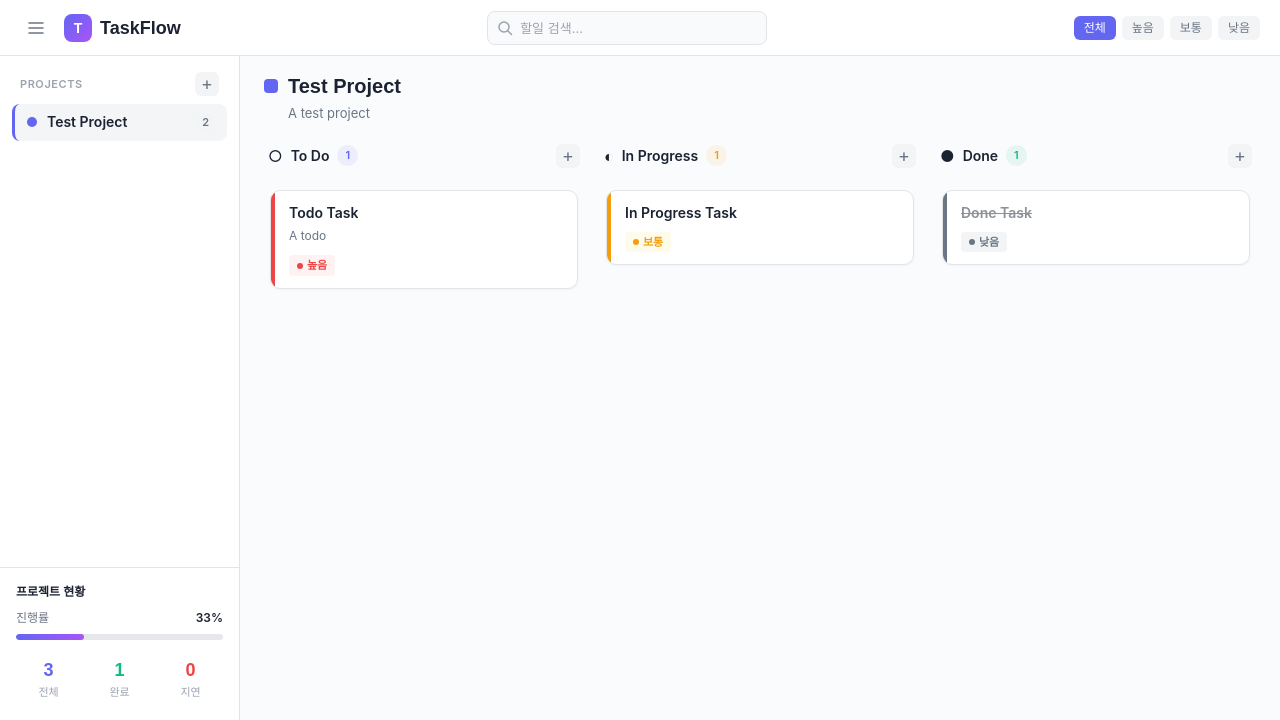
Test case: Home Page › Priority Filtering › should filter tasks by HIGH priority
The image size is (1280, 720).
Expected: the heading "Todo Task" is shown, [289,204,358,220]
Note: Use getByRole to target the filter button, not the task badge
Click the button "높음". click: x=1143, y=28
box: [1122,16,1164,40]
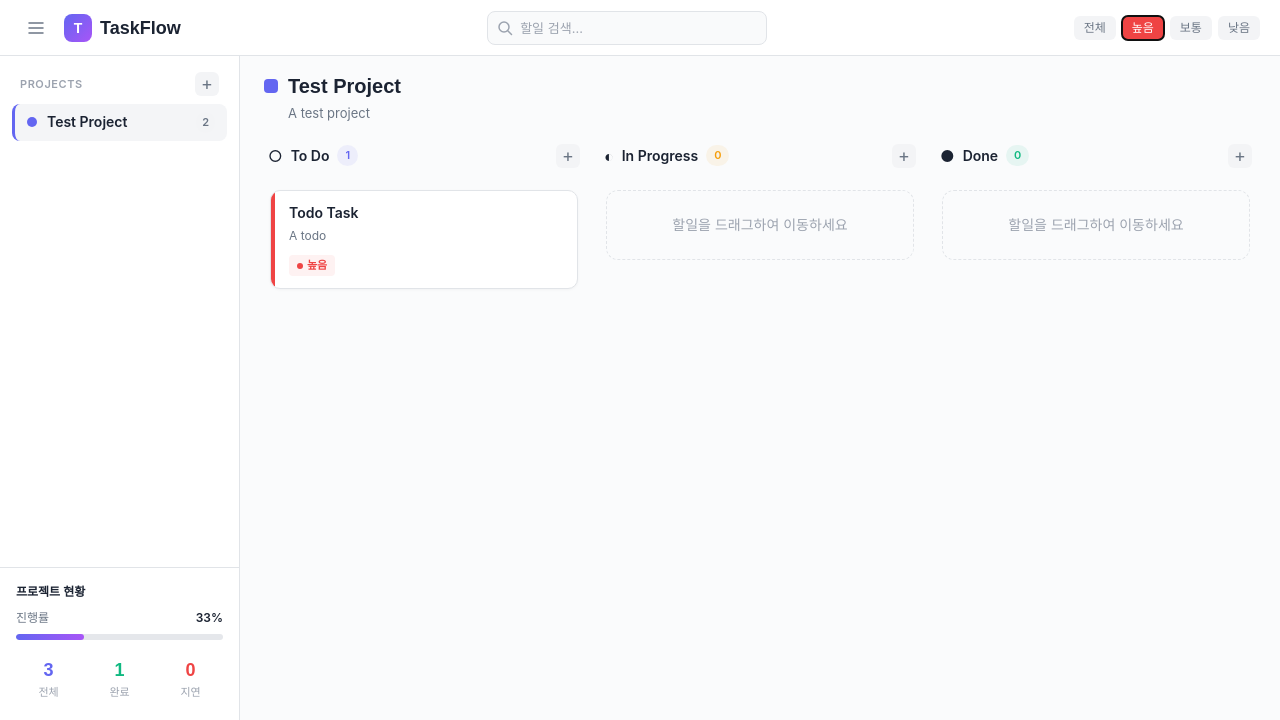
Expected: the heading "Todo Task" is shown, [289,204,358,220]
Result: the button "In Progress Task" is gone
Result: the button "Done Task" is gone
